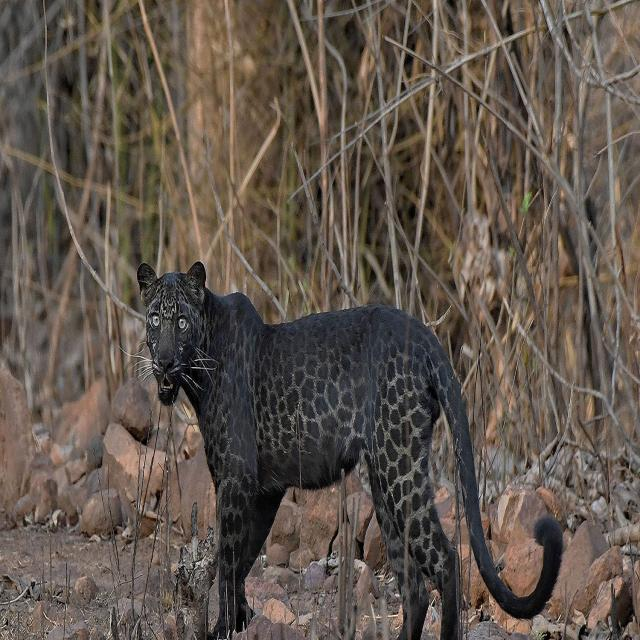Leopard: (134, 263, 565, 640)
